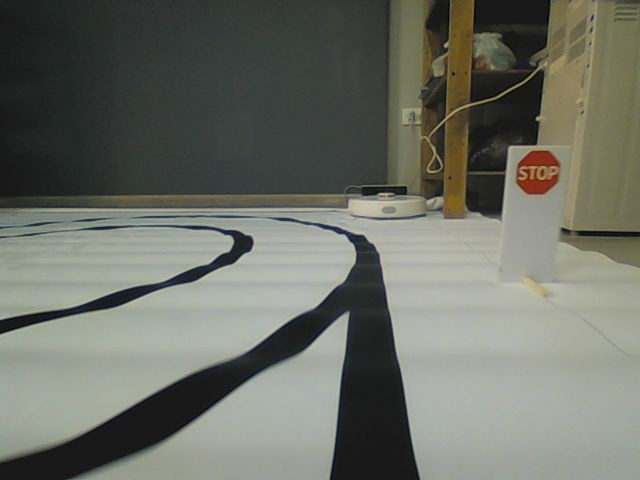Stop: (515, 149, 562, 194)
